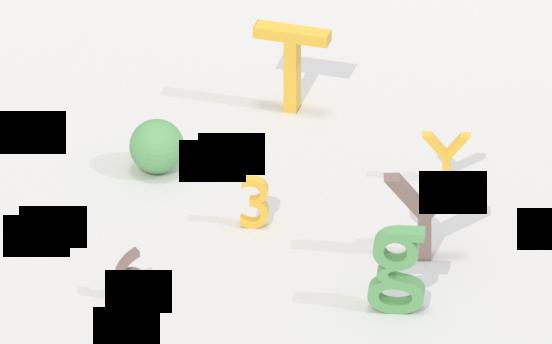3: (236, 173, 272, 233)
6: (111, 243, 151, 304)
Y-hoa: (382, 167, 469, 264), (419, 124, 475, 185)
cau: (127, 116, 186, 180)
g: (366, 221, 431, 317)
t-hoa: (251, 16, 336, 117)
